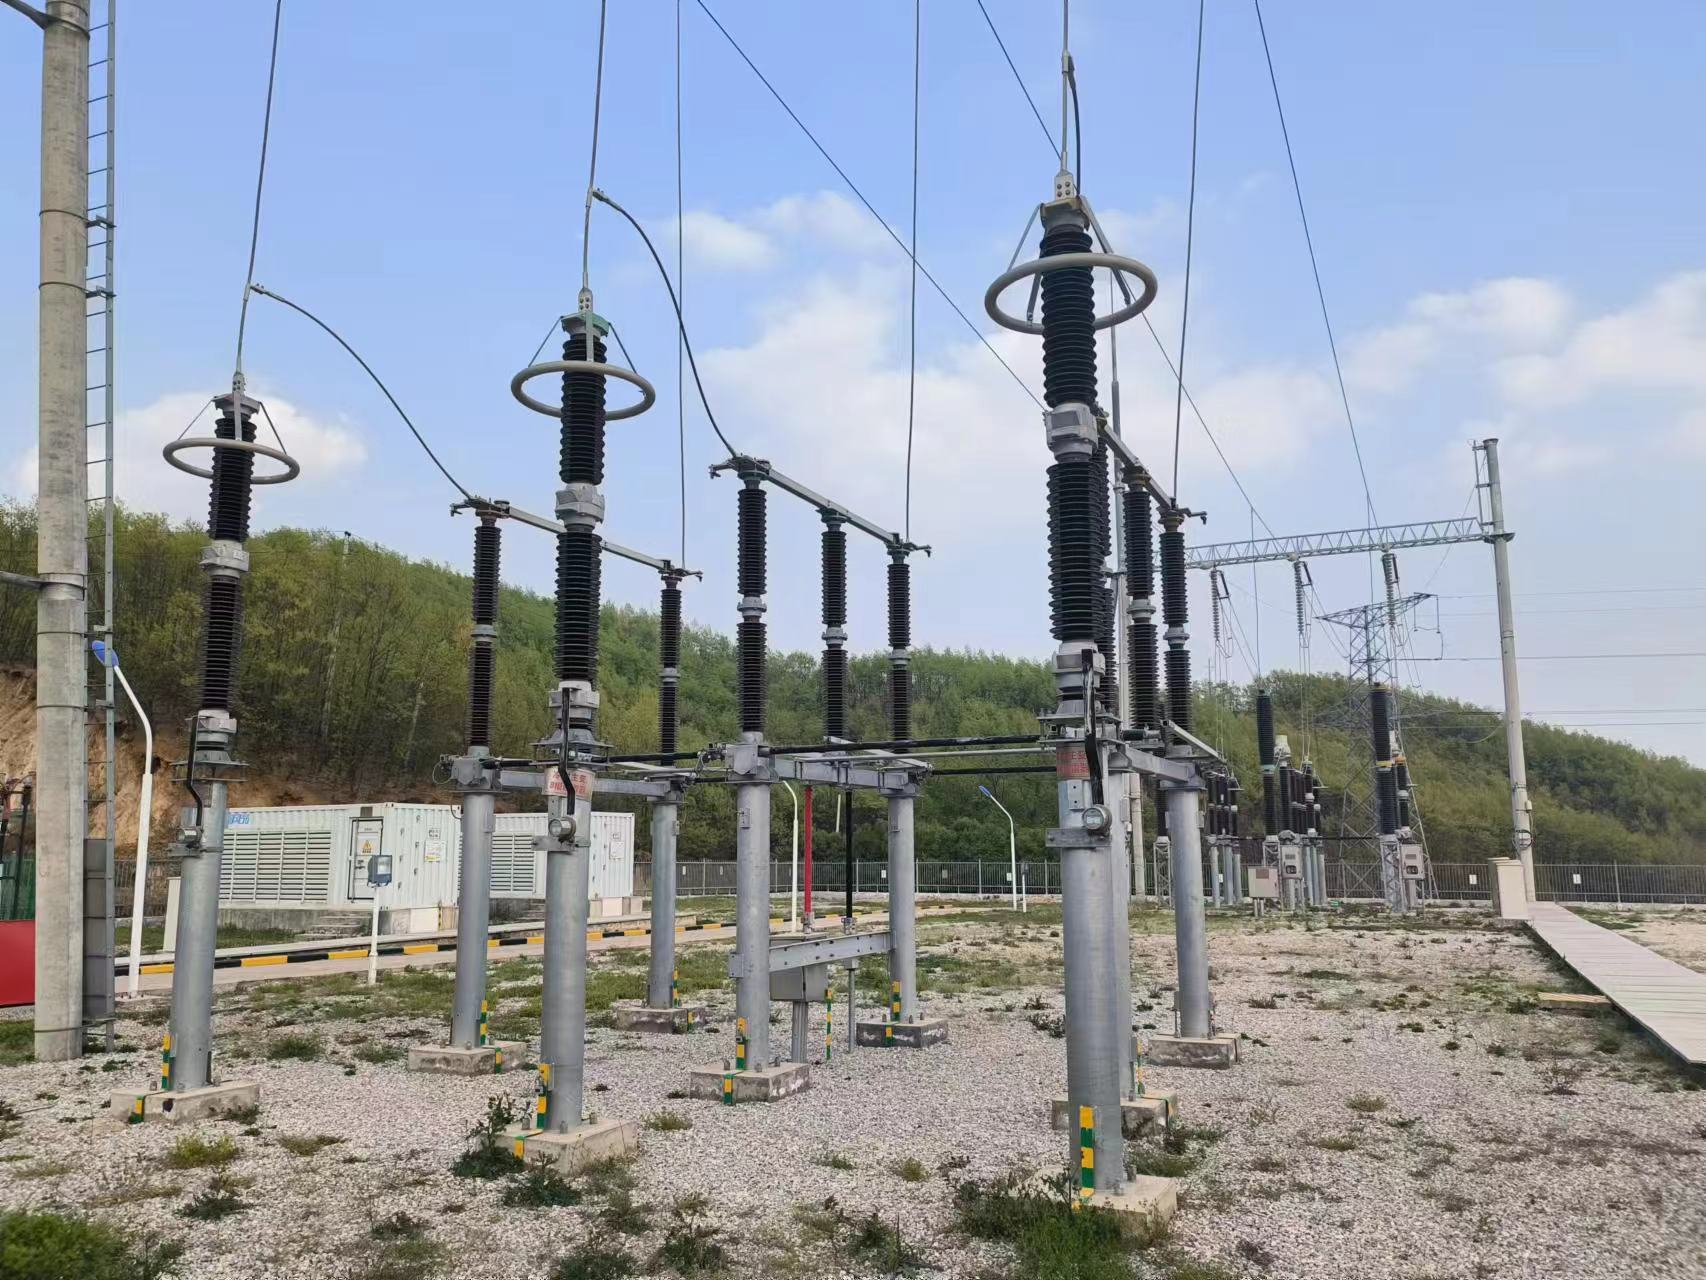Arrester: (971, 195, 1166, 678), (504, 315, 656, 717), (153, 386, 311, 749)
